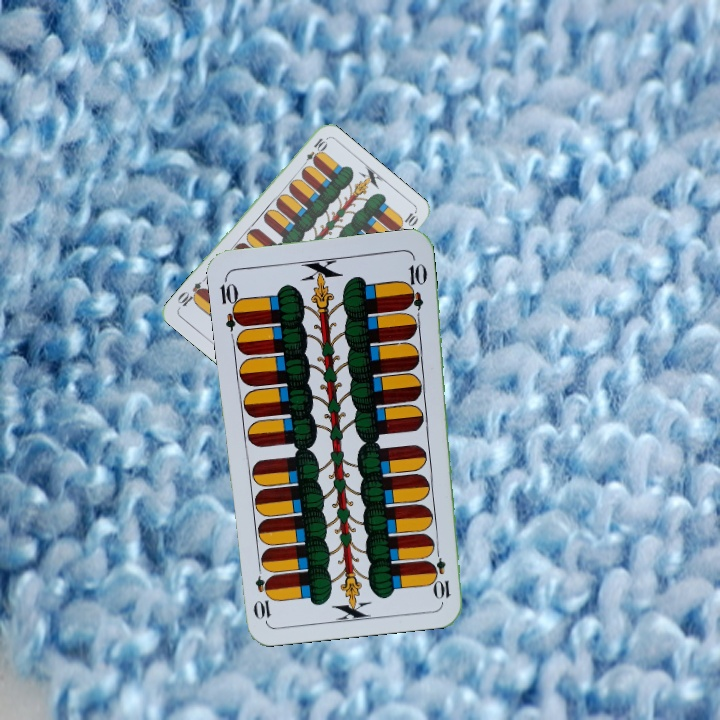E10: (216, 273, 246, 332), (430, 543, 453, 602), (298, 134, 329, 170)
